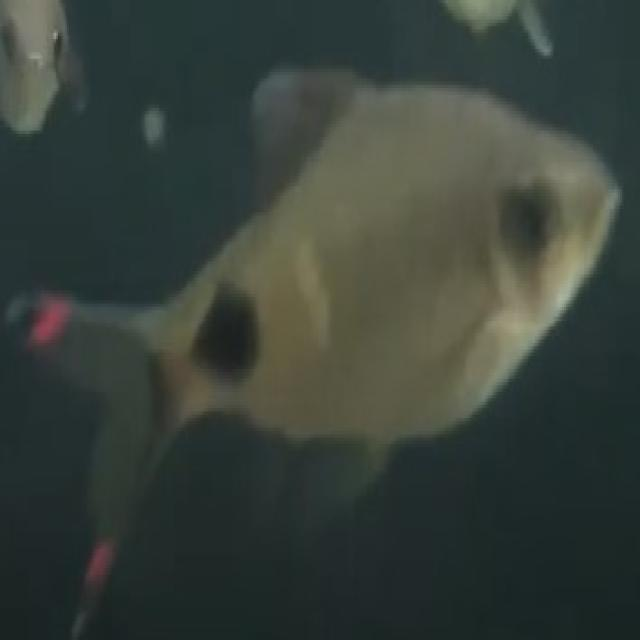Black-Spotted-Barb: (0, 55, 636, 612)
